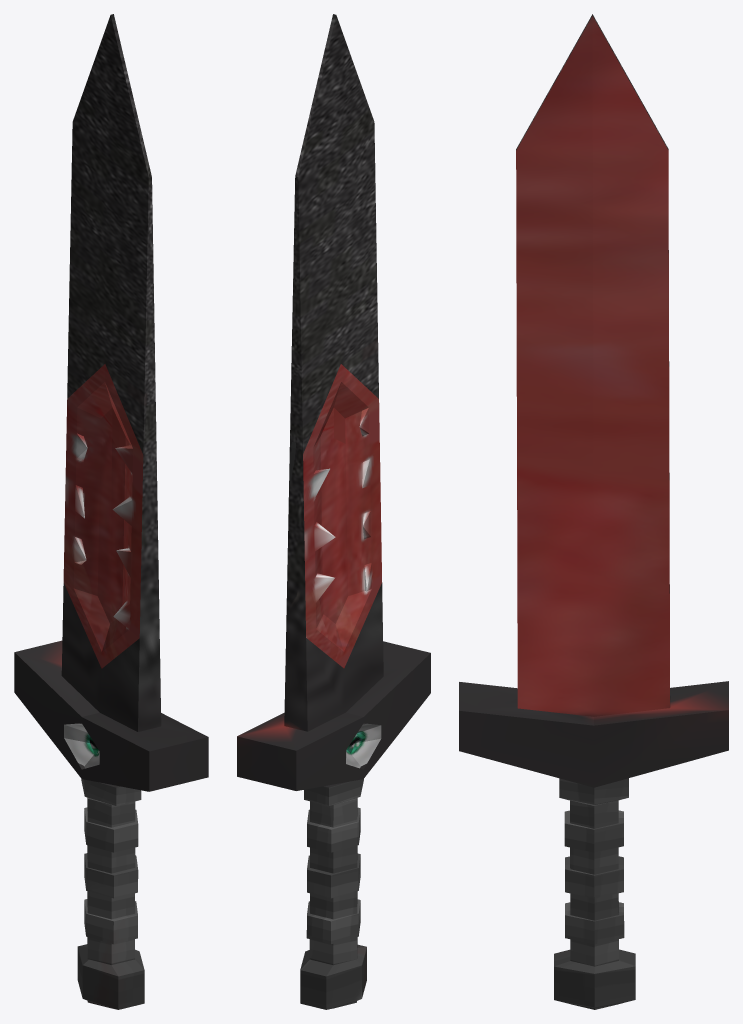
File: sword_monster_Final.fbx
3 views of the same model, side by side, from view 1: azimuth 30°, elevation 25°; view 2: azimuth 150°, elevation 25°; view 3: azimuth 270°, elevation 25° (orthographic).
Parts seen in each view (by area): view 1: Cube; view 2: Cube; view 3: Cube.
Boxes of the visible parts, x1,y1,x2,y2 form: Cube: [14, 14, 208, 1009]; Cube: [237, 14, 430, 1009]; Cube: [459, 14, 728, 1009].
Size of the model in its own units: 45.29 by 717 by 178.
Materials: 1 (1 with a texture image).
